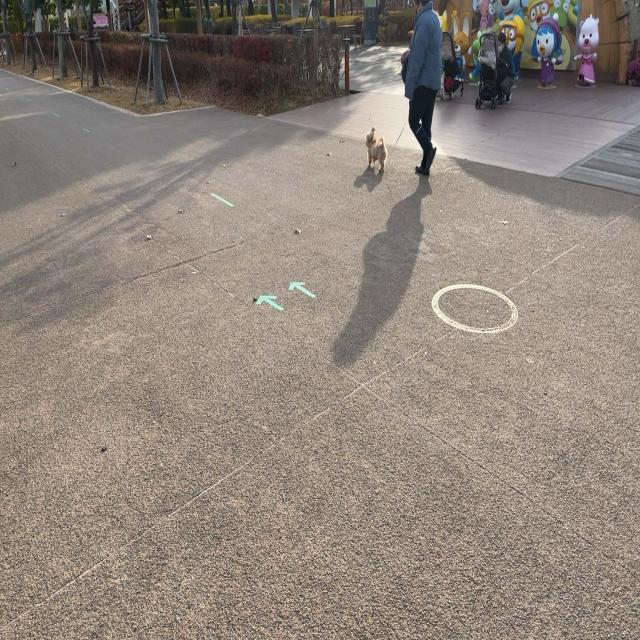Leashed_Dog: (366, 80, 418, 176)
